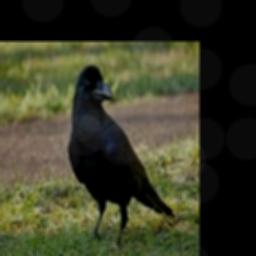Crow: (68, 64, 174, 246)
